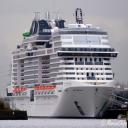cruises: (7, 7, 121, 122)
